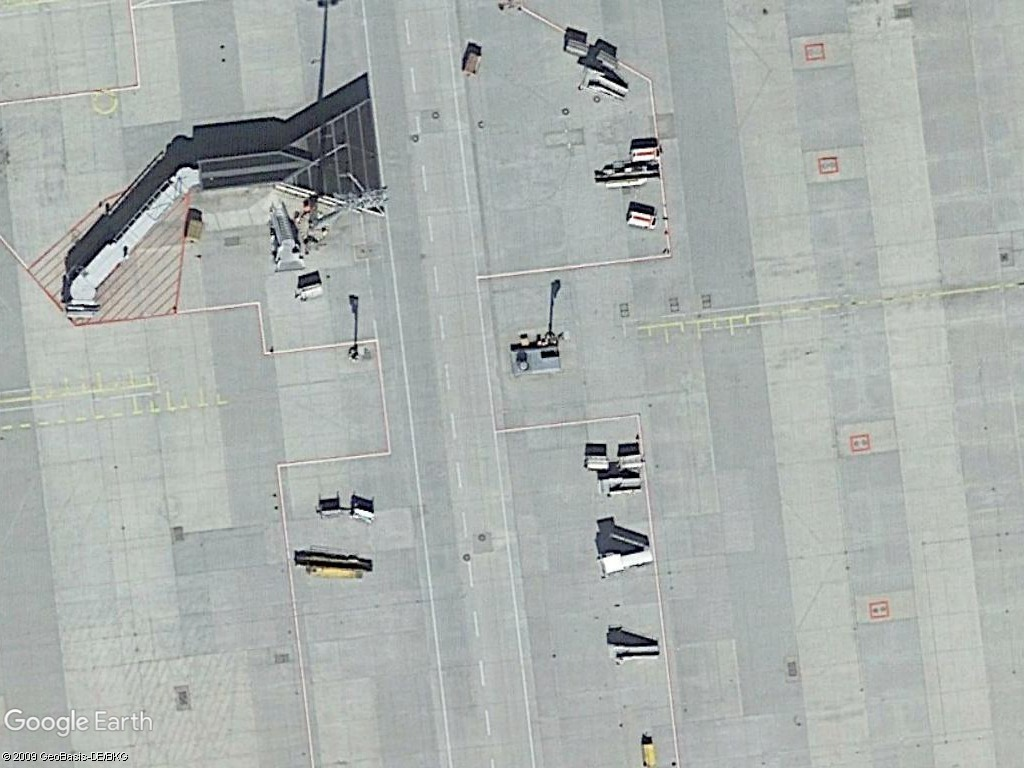stairtruck: (605, 636, 667, 672), (582, 66, 636, 105)
